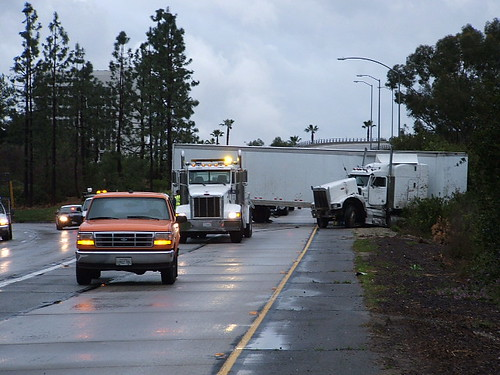car: (75, 191, 185, 285)
light pole: (343, 48, 406, 137)
sky: (194, 2, 399, 130)
street: (1, 240, 457, 375)
tree: (397, 32, 500, 143), (143, 9, 196, 181), (1, 11, 45, 204), (36, 19, 79, 195), (100, 31, 146, 180)
truck: (189, 136, 478, 233), (175, 156, 254, 237)
